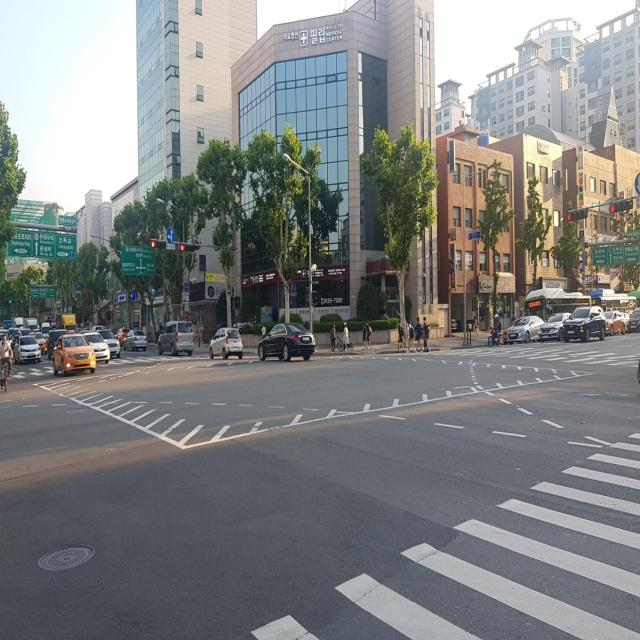횡단보도: (249, 423, 639, 640), (9, 348, 246, 379), (434, 343, 640, 368)
